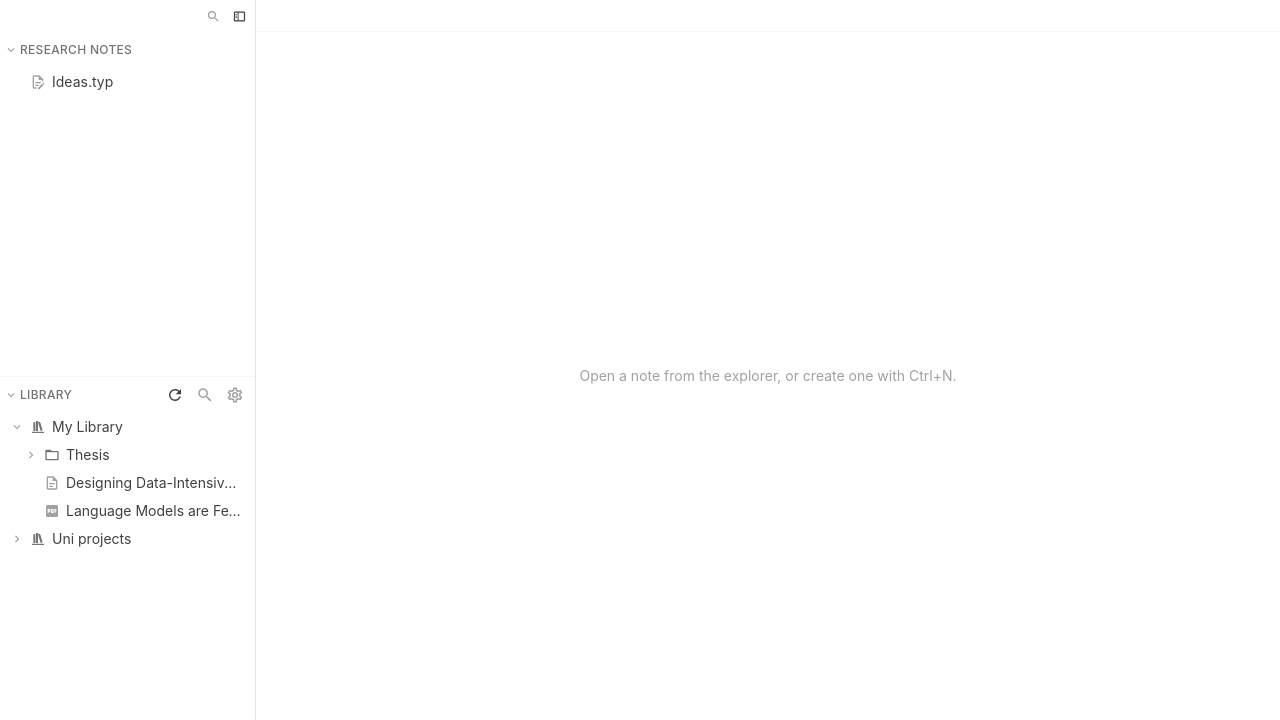
Scenario: The Library › a paper in a collection is only shown inside it, not among the library's own papers
Check: the heading "Research Notes" is shown, box x1=4 y1=40 x2=161 y2=60
Check: the button "My Library" is shown, box x1=6 y1=412 x2=249 y2=440
Click the button "Thesis": x=128, y=454 x1=6 y1=440 x2=249 y2=468
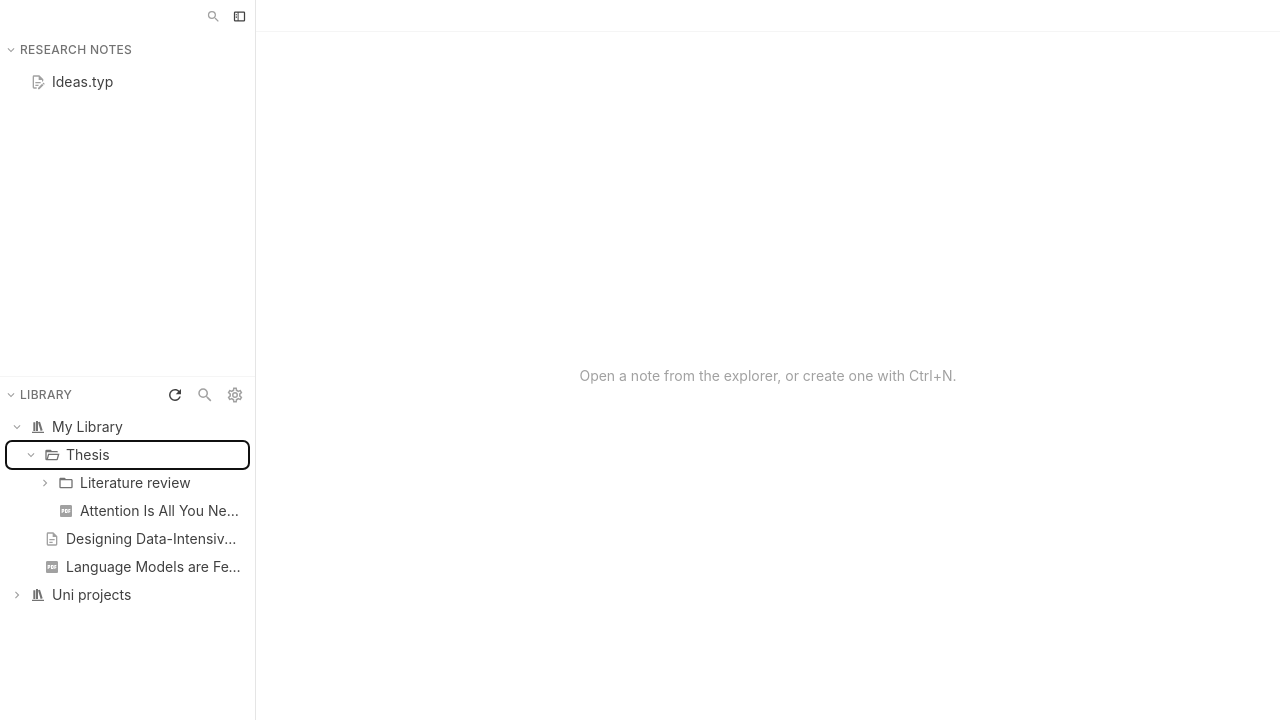
Check: the number of buttons "Attention Is All You Need" is 1, box x1=6 y1=496 x2=249 y2=524
